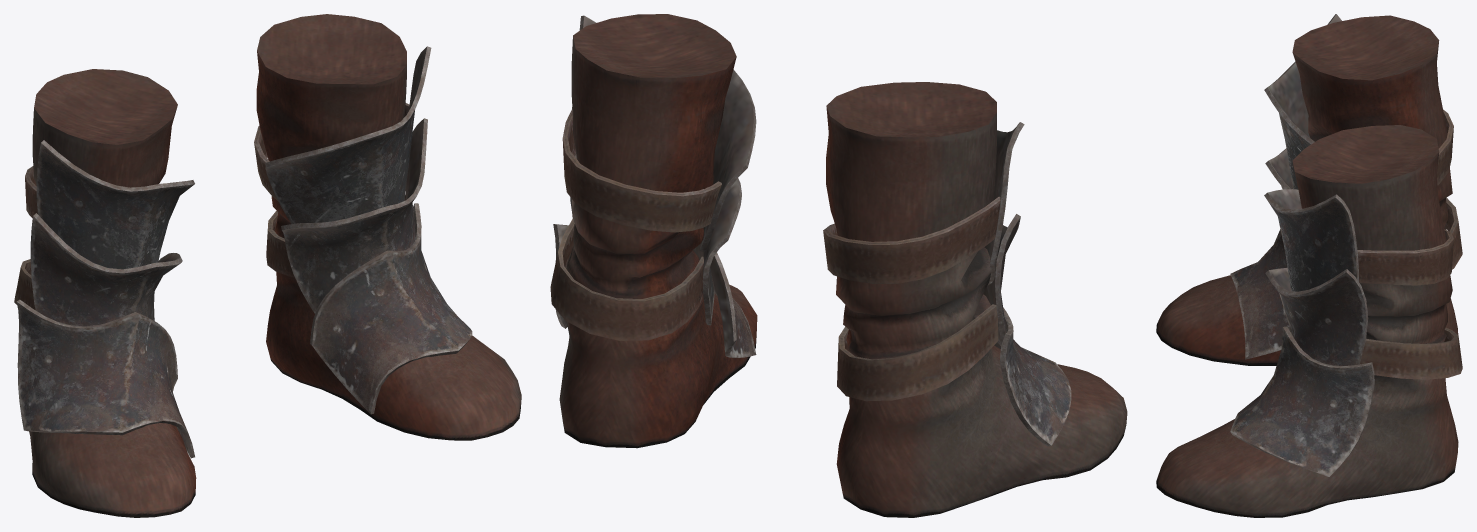
The model's file is sk_dg_uruk_boots_heavy_f.fbx.
3 renders of one model, left to right at view 1: azimuth 30°, elevation 25°; view 2: azimuth 150°, elevation 25°; view 3: azimuth 270°, elevation 25°, orthographic. The views are drawn at different scales.
Visible parts, largest first — view 1: sk_dg_uruk_boots_heavy_f.0, sk_dg_uruk_boots_heavy_f.1; view 2: sk_dg_uruk_boots_heavy_f.0, sk_dg_uruk_boots_heavy_f.1; view 3: sk_dg_uruk_boots_heavy_f.0, sk_dg_uruk_boots_heavy_f.1.
Part boxes in pixels (x1=…): sk_dg_uruk_boots_heavy_f.0: x1=16, y1=14, x2=521, y2=517; sk_dg_uruk_boots_heavy_f.1: x1=14, y1=103, x2=409, y2=309; sk_dg_uruk_boots_heavy_f.0: x1=553, y1=14, x2=1127, y2=517; sk_dg_uruk_boots_heavy_f.1: x1=550, y1=109, x2=1000, y2=401; sk_dg_uruk_boots_heavy_f.0: x1=1156, y1=14, x2=1458, y2=517; sk_dg_uruk_boots_heavy_f.1: x1=1357, y1=109, x2=1462, y2=379.
Size of the model in its own units: 0.5637 by 0.3407 by 0.389.
2 materials, 2 textured.
